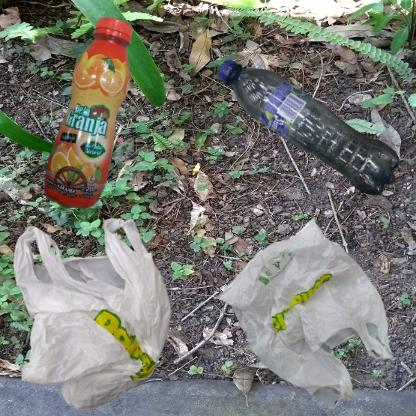bolsa: (213, 213, 400, 412), (10, 213, 180, 416)
botella: (10, 10, 230, 296), (213, 10, 416, 299)
